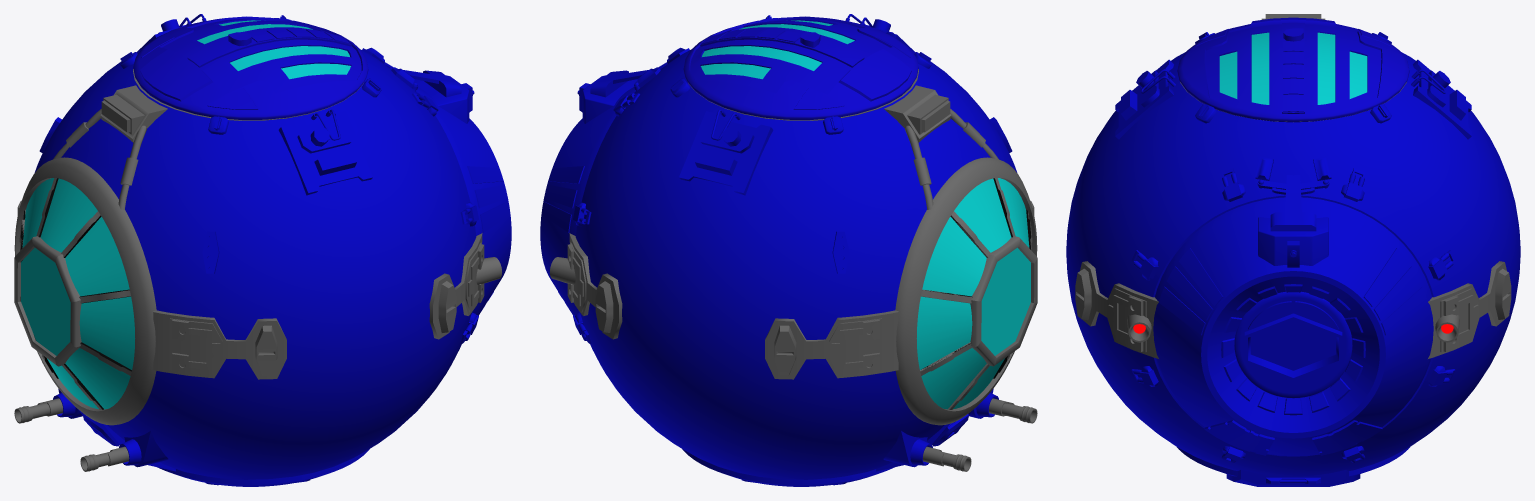
File: tiecockpit.fbx
3 views of the same model, side by side, from view 1: azimuth 30°, elevation 25°; view 2: azimuth 150°, elevation 25°; view 3: azimuth 270°, elevation 25° (orthographic).
Parts seen in each view (by area): view 1: Hull, Hatch, Interior; view 2: Hull, Hatch, Interior; view 3: Hull, Hatch.
Part boxes in pixels (x1,y1,x2,y2): Hull: [14, 14, 511, 486]; Hatch: [133, 16, 368, 119]; Interior: [20, 69, 363, 409]; Hull: [540, 14, 1037, 486]; Hatch: [683, 16, 918, 119]; Interior: [688, 69, 1031, 378]; Hull: [1066, 14, 1520, 486]; Hatch: [1177, 17, 1409, 122].
Bounding box in the file's own units: 282 × 273 × 262.
